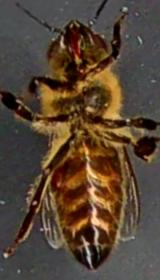varroa_mite: (34, 162, 76, 194)
